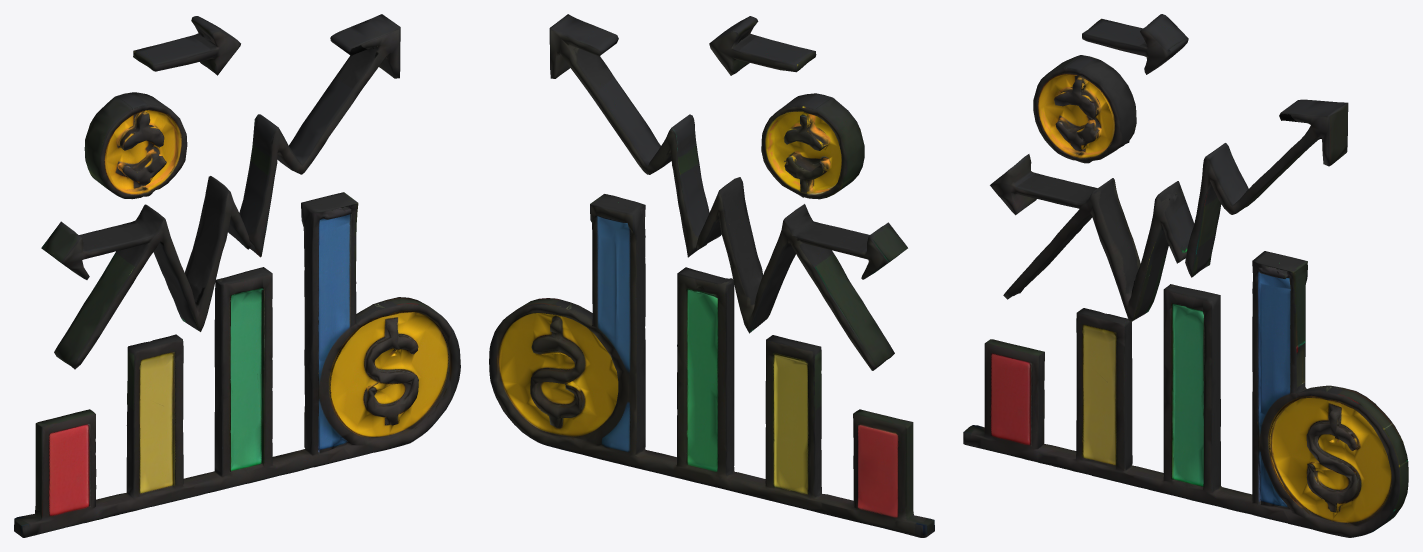
The picture shows the model from 3 angles, left to right: view 1: azimuth 30°, elevation 25°; view 2: azimuth 150°, elevation 25°; view 3: azimuth 330°, elevation 25°; orthographic projection.
Size of the model in its own units: 1.97 by 2 by 0.167.
1 material, 1 textured.
